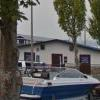Boat: (22, 63, 100, 100)
